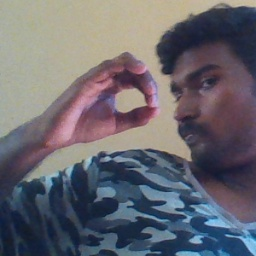O: (43, 49, 160, 142)
